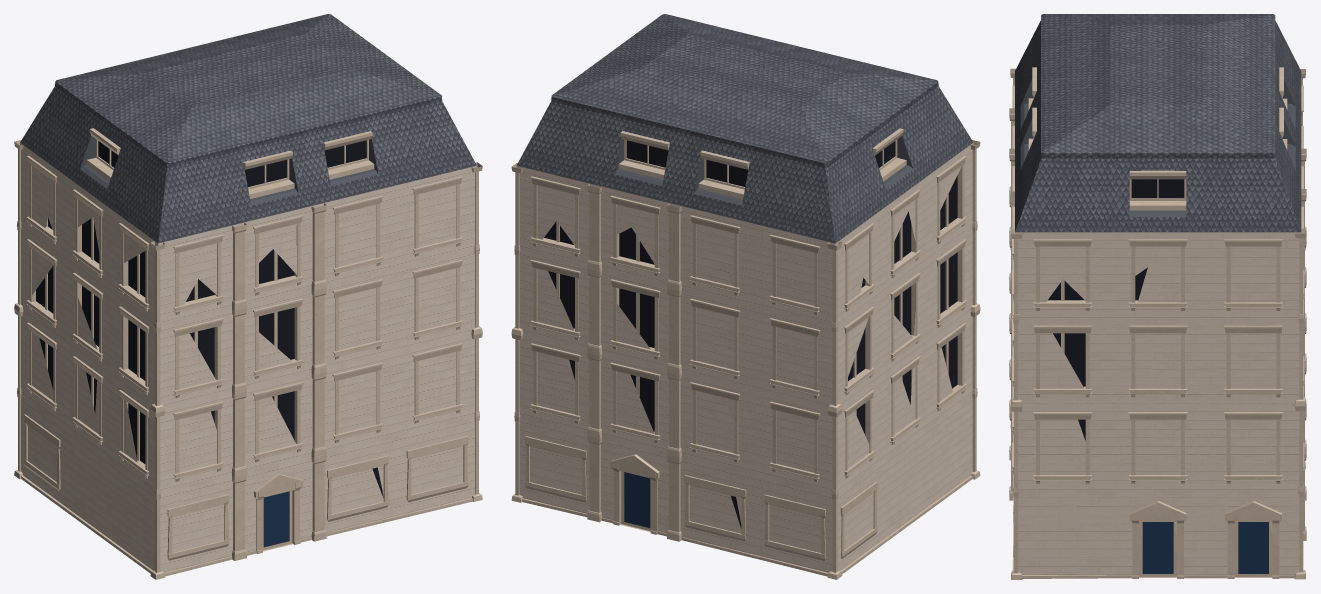
Rendered from Hausmann3.fbx.
3 views of the same model, side by side, from view 1: azimuth 30°, elevation 25°; view 2: azimuth 150°, elevation 25°; view 3: azimuth 270°, elevation 25° (orthographic). The views are drawn at different scales.
Visible parts, largest first — view 1: Hausmann3_LOD0; view 2: Hausmann3_LOD0; view 3: Hausmann3_LOD0.
Boxes of the visible parts, <box> form: Hausmann3_LOD0: <box>14,14,482,579</box>; Hausmann3_LOD0: <box>511,14,980,579</box>; Hausmann3_LOD0: <box>1009,14,1306,579</box>.
Size of what is drawn, in the model's own units: 1232 by 1501 by 935.
